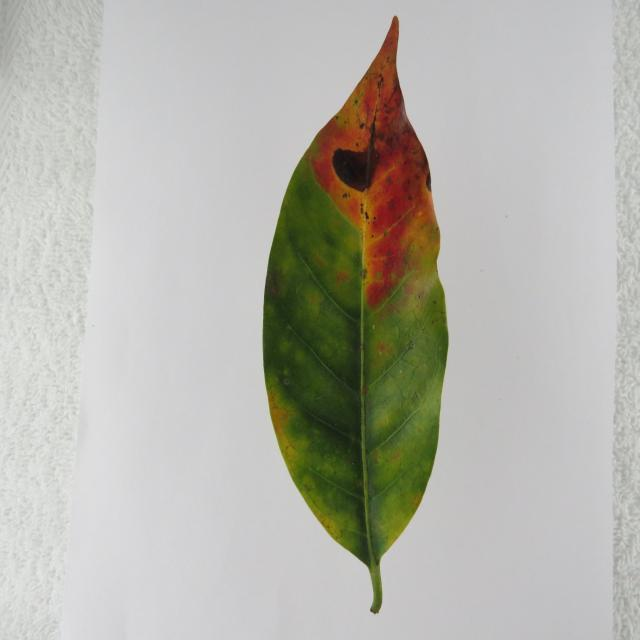DeficienciaNutricional-Fosforo: (262, 17, 449, 613)
